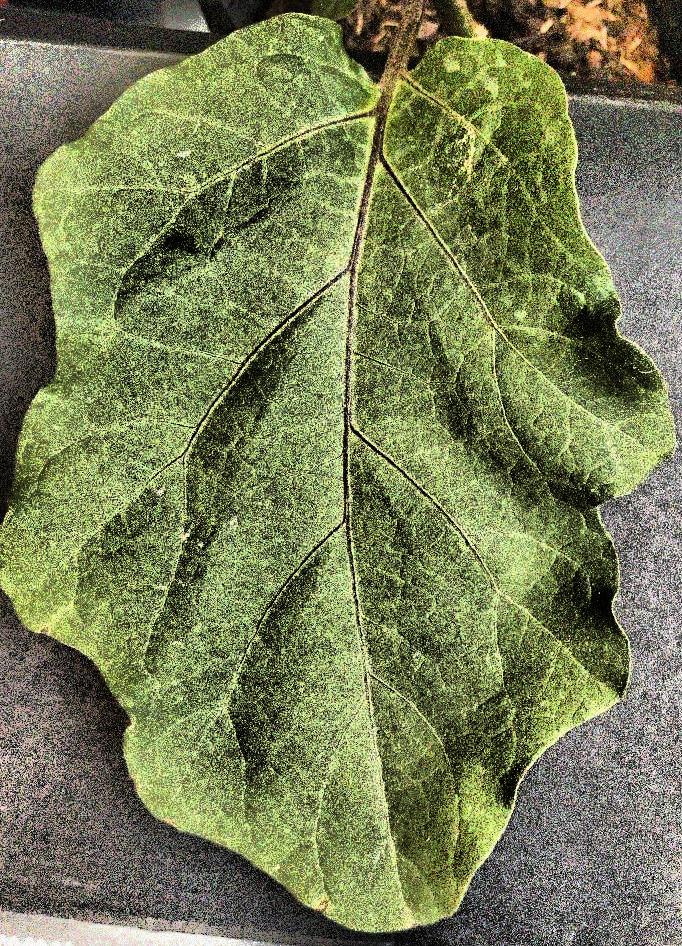HEALTHY: (1, 0, 682, 946)
